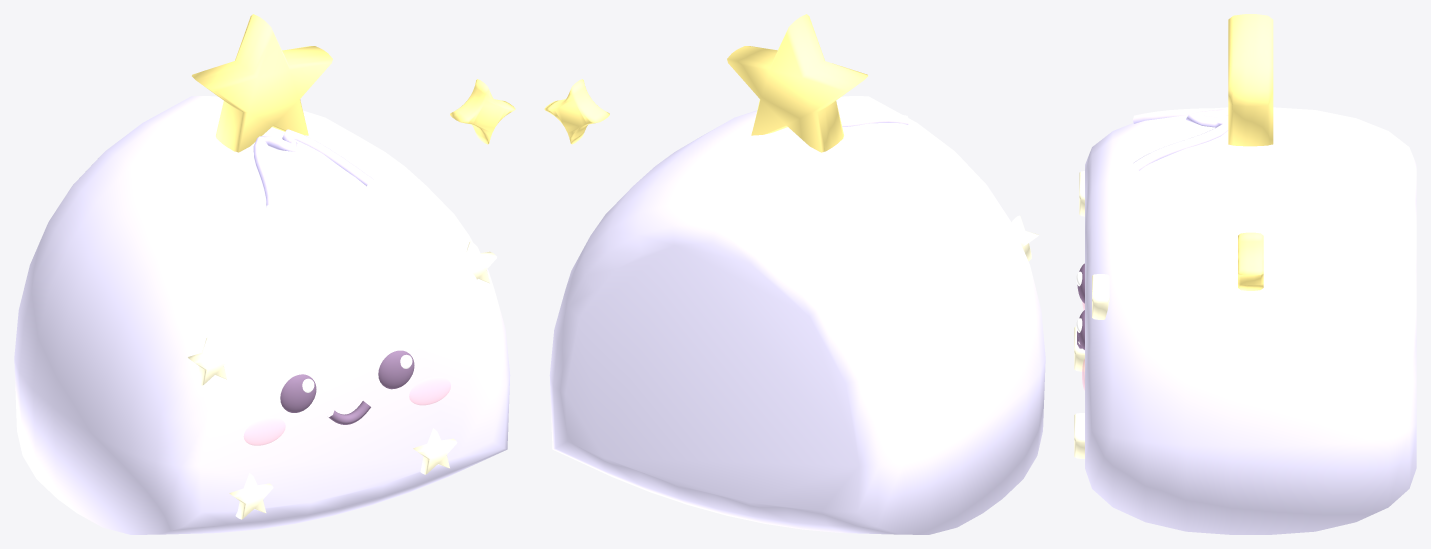
The model's file is squishy_starbun.glb.
3 views of the same model, side by side, from view 1: azimuth 30°, elevation 25°; view 2: azimuth 150°, elevation 25°; view 3: azimuth 270°, elevation 25° (orthographic). The views are drawn at different scales.
Parts seen in each view (by area): view 1: starbun; view 2: starbun; view 3: starbun.
Boxes of the visible parts, x1=… form: starbun: x1=14, y1=14, x2=515, y2=534; starbun: x1=544, y1=14, x2=1045, y2=534; starbun: x1=1074, y1=14, x2=1416, y2=534.
Bounding box in the file's own units: 1 × 1 × 0.6816.
